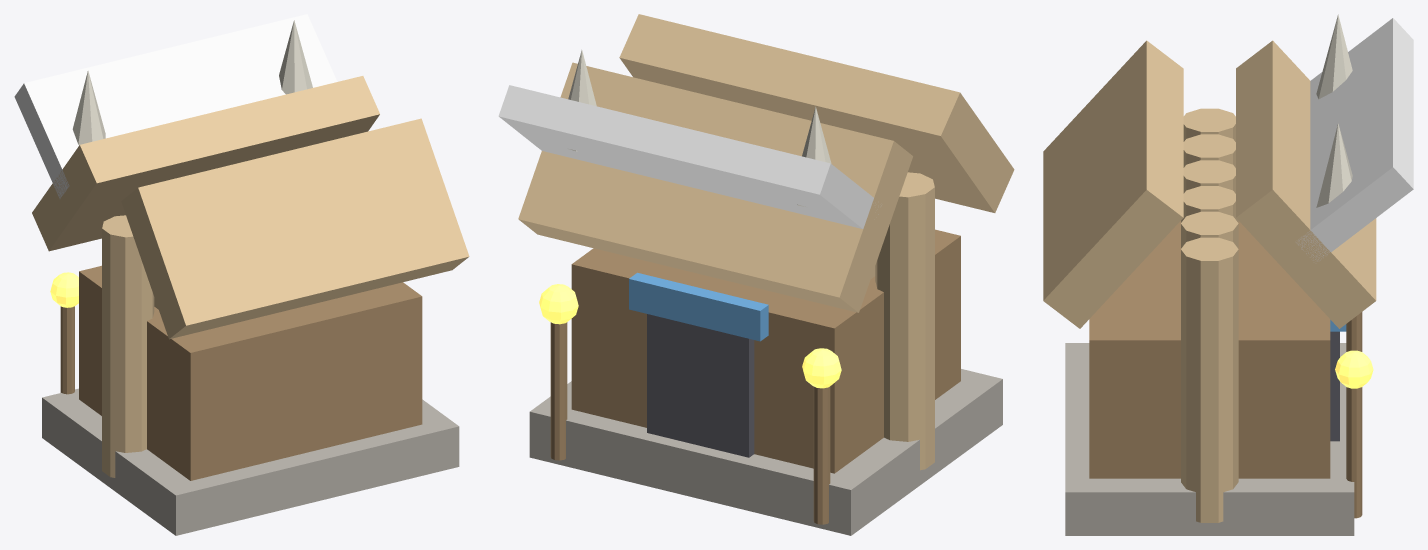
The model's file is barbarian_hut.glb.
3 views of the same model, side by side, from view 1: azimuth 30°, elevation 25°; view 2: azimuth 150°, elevation 25°; view 3: azimuth 270°, elevation 25° (orthographic). The views are drawn at different scales.
Parts seen in each view (by area): view 1: barbarian_hut; view 2: barbarian_hut; view 3: barbarian_hut.
Part boxes in pixels (bbox=[...]): barbarian_hut: bbox=[14, 14, 469, 535]; barbarian_hut: bbox=[498, 14, 1014, 535]; barbarian_hut: bbox=[1043, 14, 1413, 535].
Bounding box in the file's own units: 2.24 × 2.7 × 2.31.
